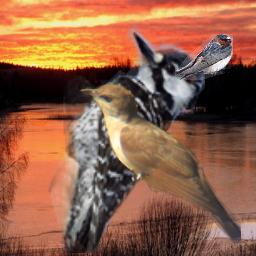Cuckoo: (79, 83, 241, 243)
Swallow: (175, 34, 233, 80)
Woodpecker: (22, 24, 205, 253)
